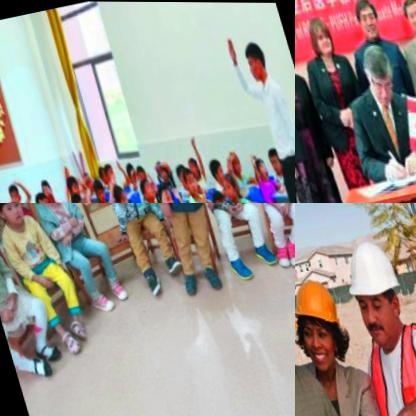head: (351, 40, 399, 104), (238, 34, 272, 85), (346, 0, 378, 38), (300, 14, 330, 54), (212, 165, 239, 202), (392, 0, 416, 37), (201, 149, 226, 183), (132, 171, 154, 201), (102, 176, 126, 203), (247, 149, 267, 180), (0, 203, 25, 227), (83, 173, 103, 202), (178, 164, 197, 194), (263, 145, 282, 175), (147, 154, 167, 182), (201, 183, 229, 203), (181, 152, 200, 181), (0, 176, 19, 203), (222, 146, 241, 172), (152, 180, 173, 203), (33, 175, 51, 201), (169, 158, 187, 184), (94, 155, 112, 180), (120, 156, 137, 182), (59, 171, 78, 194), (62, 188, 85, 203), (76, 165, 91, 188), (27, 187, 48, 203), (92, 161, 107, 183), (129, 161, 144, 182), (0, 195, 25, 203)
helmet: (329, 231, 416, 350), (295, 261, 357, 380), (295, 243, 316, 379)
